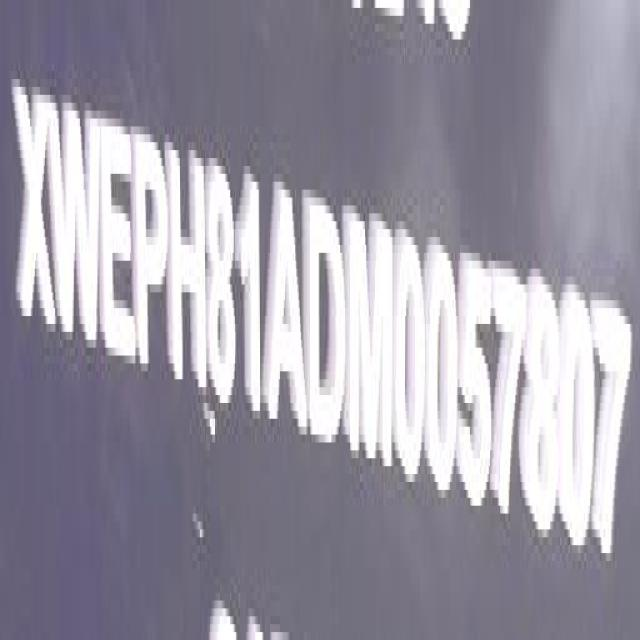0: (394, 231, 428, 490), (560, 286, 593, 552), (428, 235, 459, 498)
1: (240, 162, 262, 425)
5: (457, 244, 492, 513)
7: (596, 301, 632, 568), (497, 258, 527, 524)
8: (525, 273, 562, 538), (208, 155, 238, 408)
A: (269, 177, 310, 444)
D: (308, 188, 347, 452)
E: (101, 118, 137, 374)
H: (171, 136, 207, 402)
M: (347, 208, 394, 473)
P: (134, 122, 168, 385)
W: (49, 88, 102, 361)
X: (16, 71, 55, 349)
